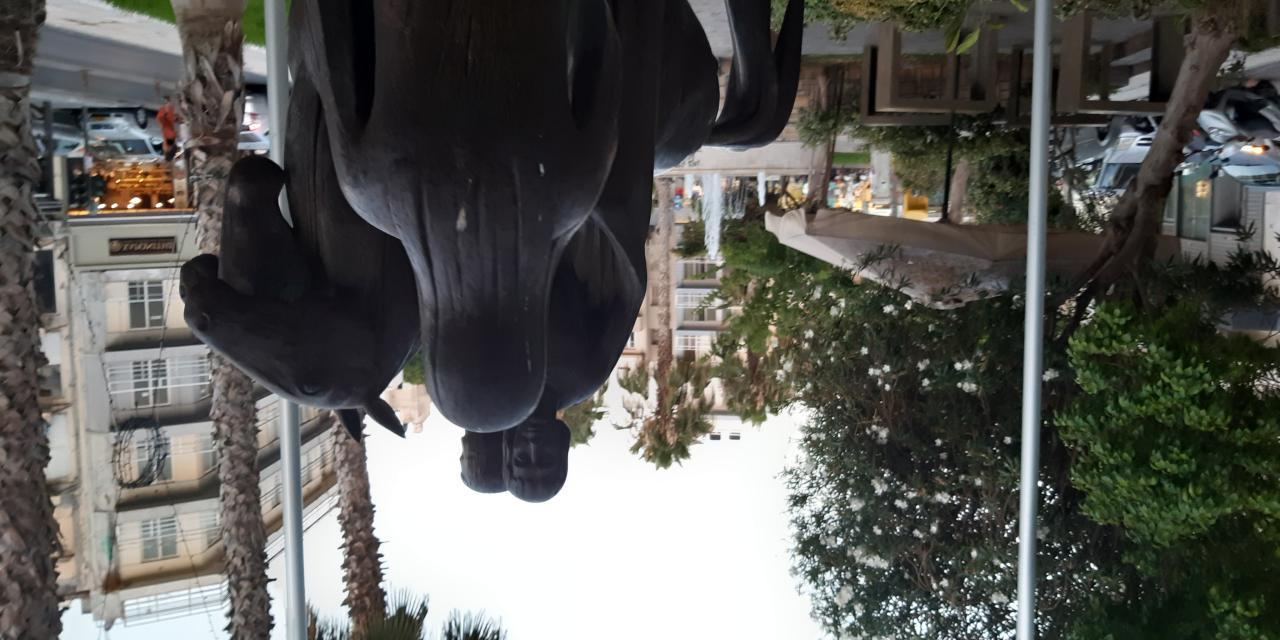Aretousa: (181, 1, 805, 505)
